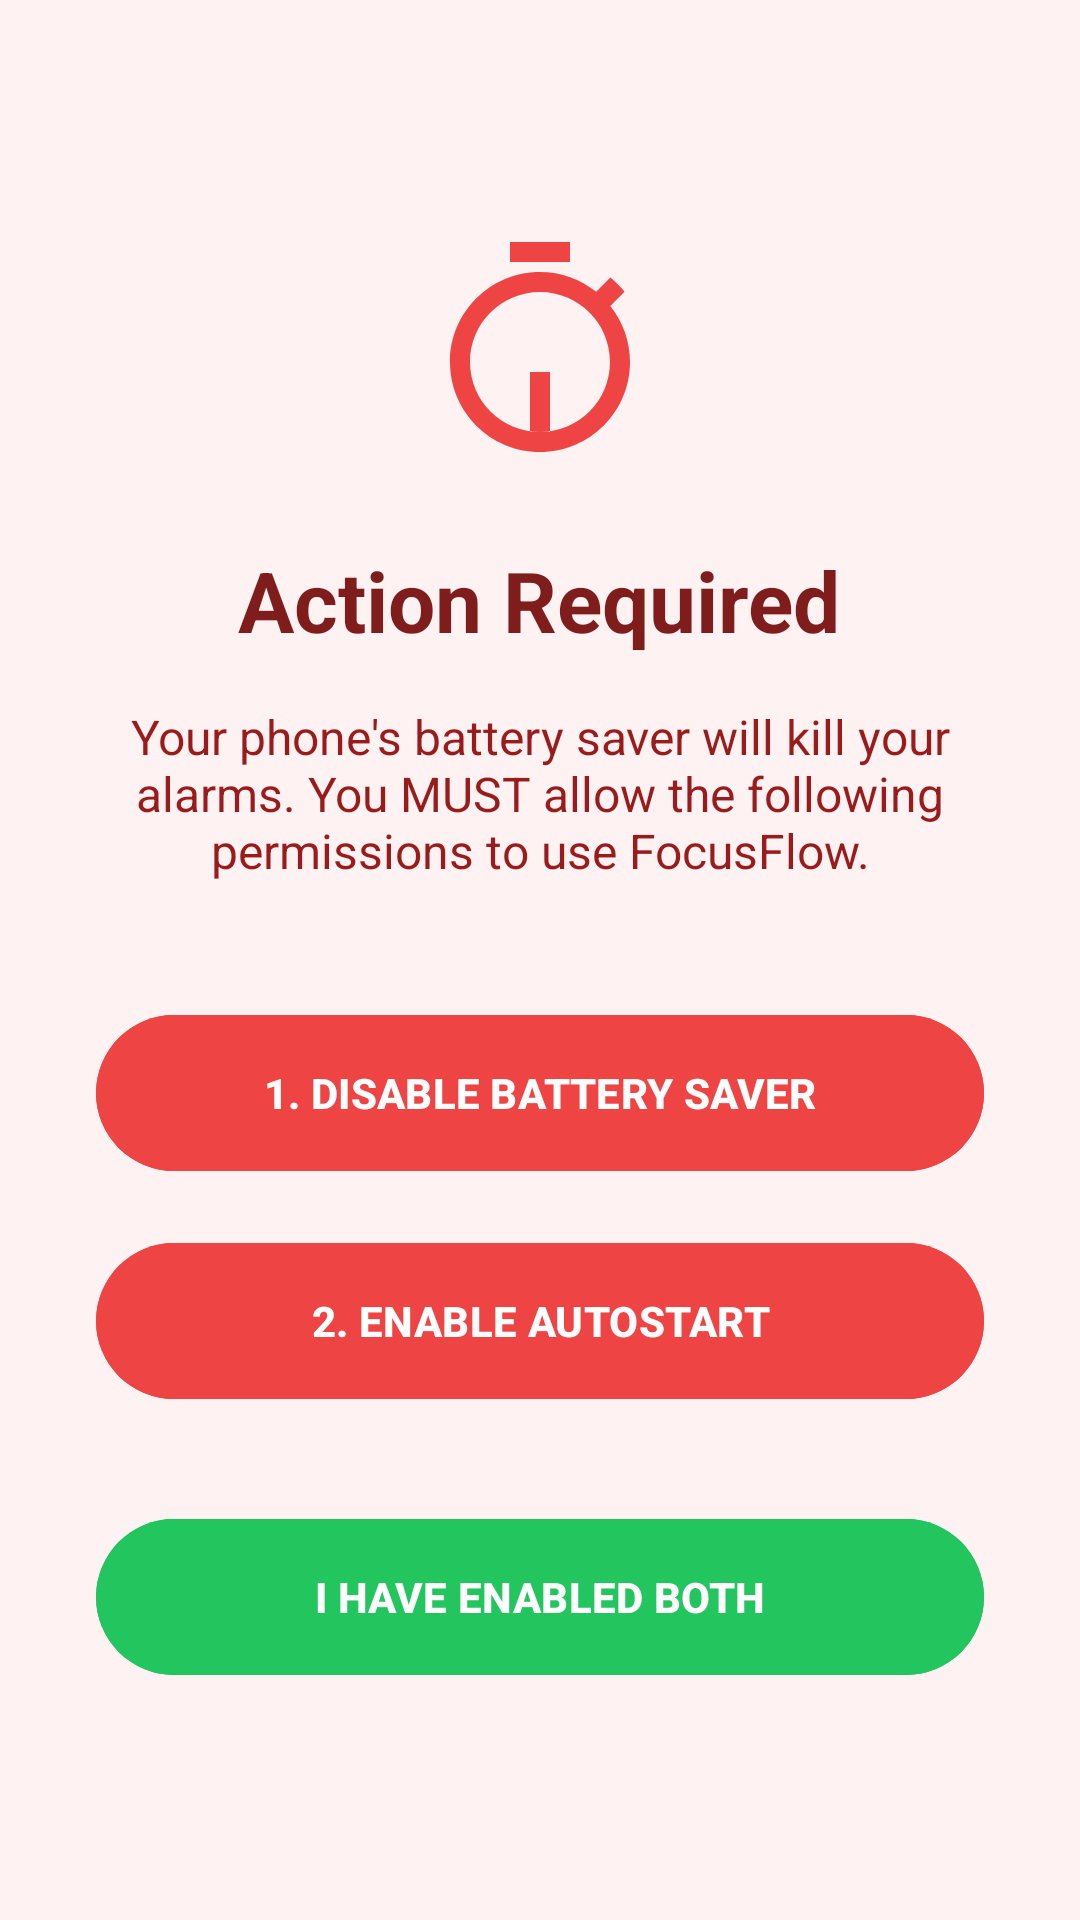

Point at icon controls on the screen. Image size 1080px x 1920px, points as (x,y).
timer: (540,347)
